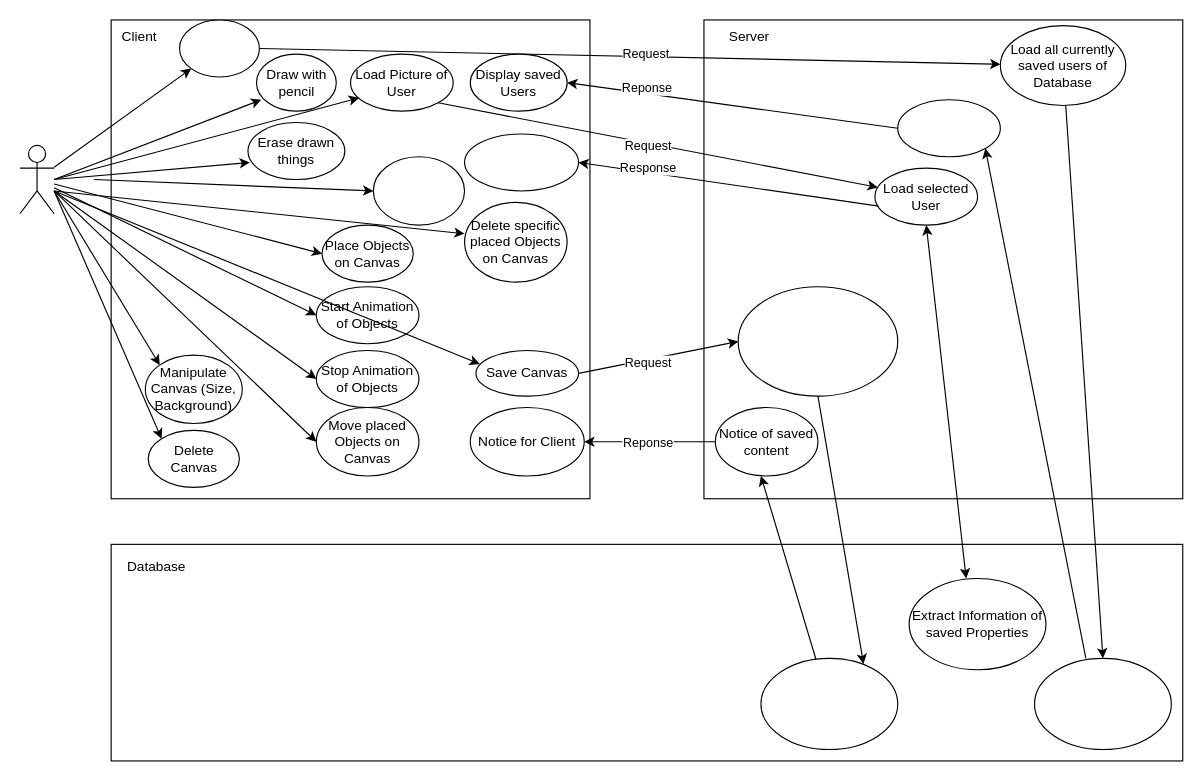
Some shapes in this 1203 by 781 pixel diagram are drawn without their labels. The shapes that lost their labels are listed below. From the top down, each one's centre as x and y in pixels, then its label:
At (218,48): "Input Username".
At (948,128): "Receive Data".
At (36,179): "Actor".
At (521,162): "Display selected User's Picture".
At (418,190): "Change Pensilcolor & Objectsize".
At (817,341): "Receive Information of current Object properties".
At (829,703): "Insert Information in Collection of Databse".
At (1102,703): "Find all saved usernames".
